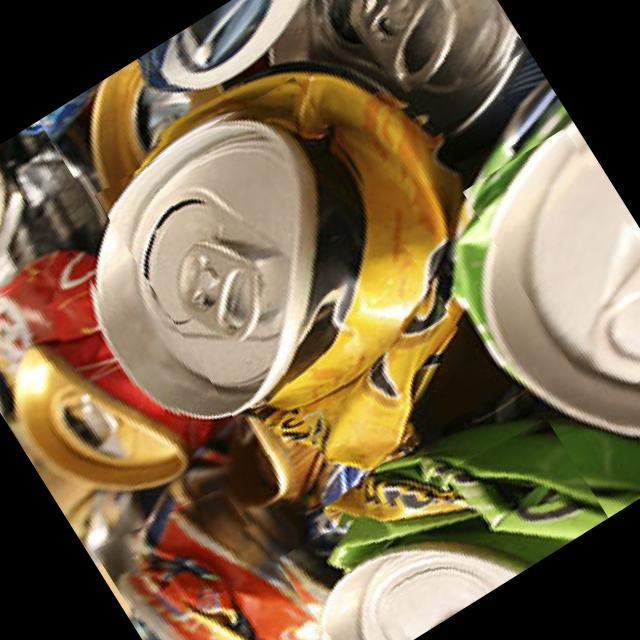Cans: (94, 66, 499, 515), (267, 397, 608, 640), (462, 121, 640, 464), (0, 245, 201, 524), (92, 464, 332, 640), (115, 0, 369, 117), (308, 0, 533, 129), (0, 119, 97, 314)
